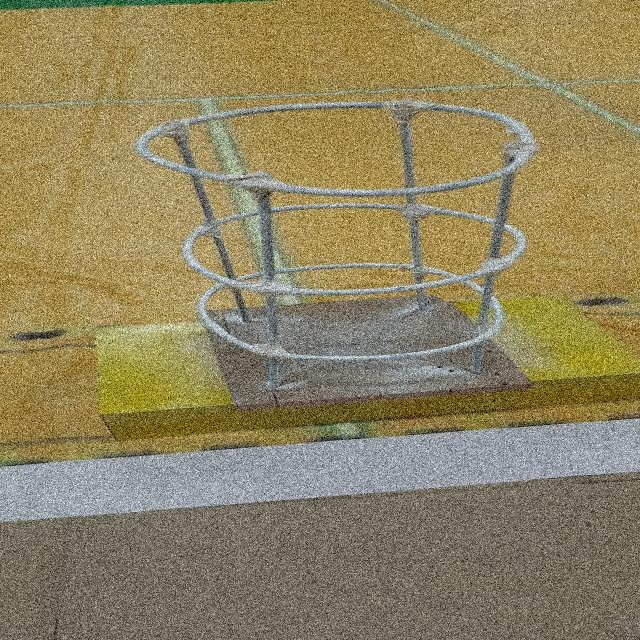silo: (111, 82, 566, 423)
